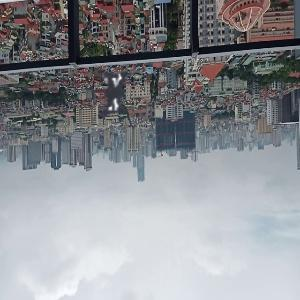drone: (48, 31, 174, 157)
